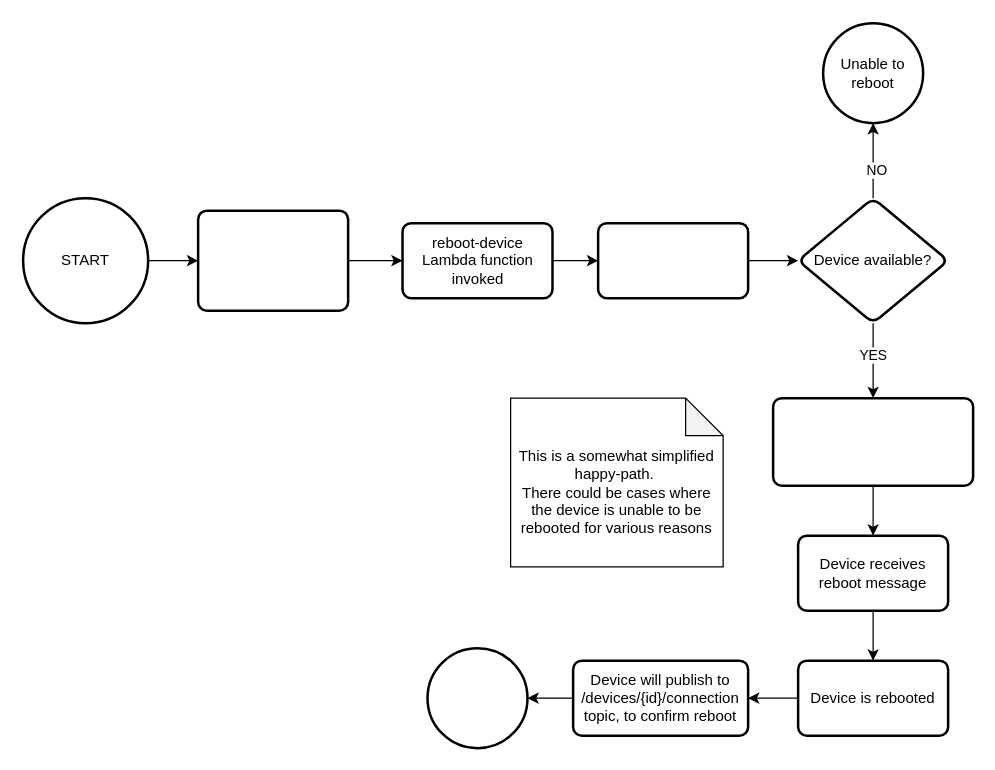
Some shapes in this 995 by 770 pixel diagram are drawn without their labels. The shapes that lost their labels are listed below. From the top down, each one's centre as x and y in pixels, then its label:
the point at 272,260: POST request to APIGateway endpoint /devices/{id}/reboot
the point at 672,260: Checks connection-status dynamodb table
the point at 872,441: Publish MQTT message to /devices/{id}/reboot topic in IoT Core
the point at 477,697: END
